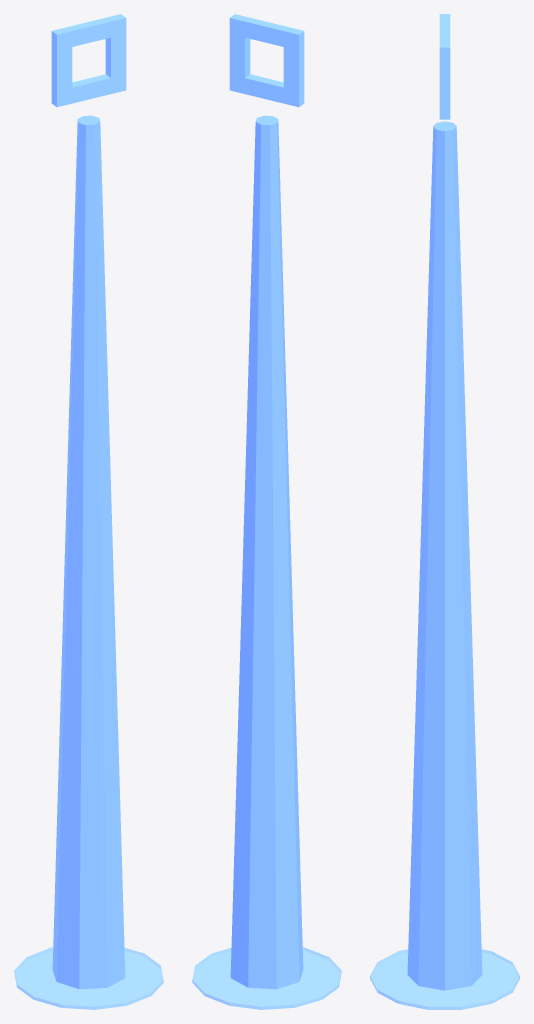
Rendered from fx_drop_antique.glb.
3 renders of one model, left to right at view 1: azimuth 30°, elevation 25°; view 2: azimuth 150°, elevation 25°; view 3: azimuth 270°, elevation 25°, orthographic.
Visible parts, largest first — view 1: fx_drop_antique; view 2: fx_drop_antique; view 3: fx_drop_antique.
Part boxes in pixels (left/top/right/bottom): fx_drop_antique: left=14, top=14, right=163, bottom=1009; fx_drop_antique: left=192, top=14, right=341, bottom=1009; fx_drop_antique: left=370, top=14, right=519, bottom=1009.
Size of the model in its own units: 0.624 by 4.47 by 0.64.
